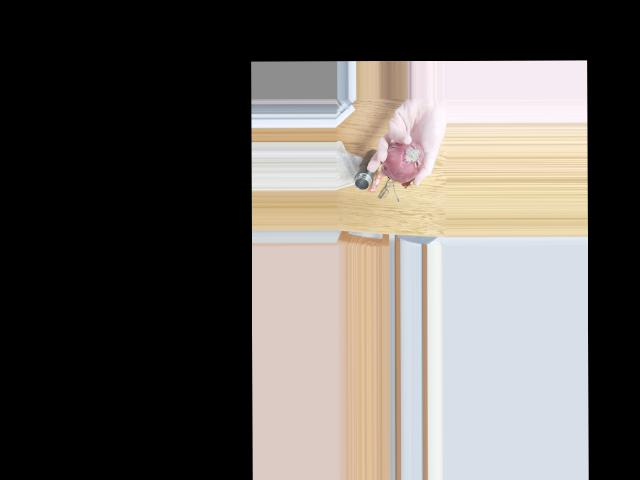onion: (385, 137, 427, 179)
